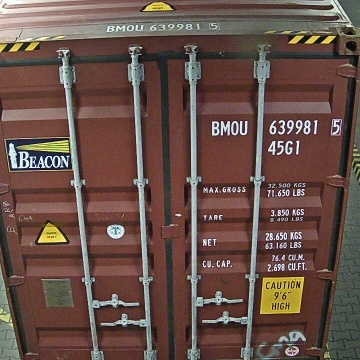serial_id: (212, 119, 342, 135)
